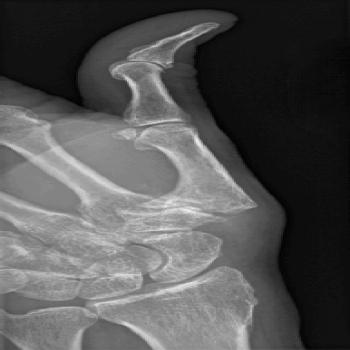Fracture: (109, 51, 166, 73)
